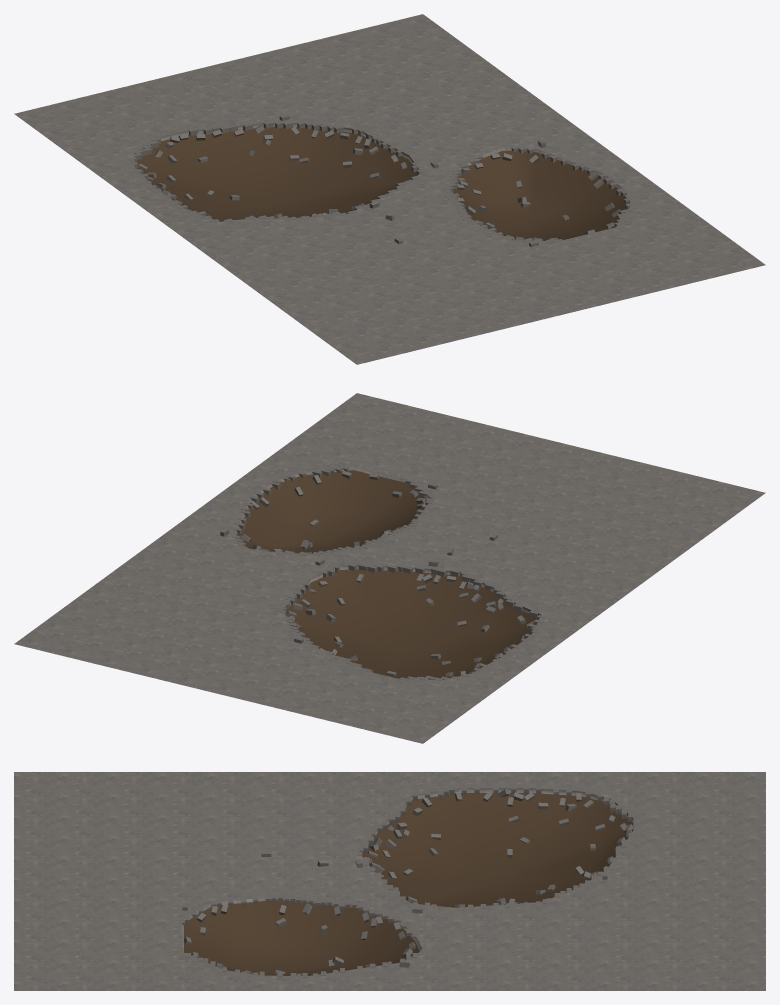
File: Broken Road.fbx
3 views of the same model, one above another, from view 1: azimuth 30°, elevation 25°; view 2: azimuth 150°, elevation 25°; view 3: azimuth 270°, elevation 25° (orthographic). The views are drawn at different scales.
Visible parts, largest first — view 1: Broken_Road; view 2: Broken_Road; view 3: Broken_Road.
Part boxes in pixels (<box>): Broken_Road: <box>14,14,765,364</box>; Broken_Road: <box>14,393,765,743</box>; Broken_Road: <box>14,772,765,990</box>.
Size of the model in its own units: 20.08 by 1.76 by 29.17.
